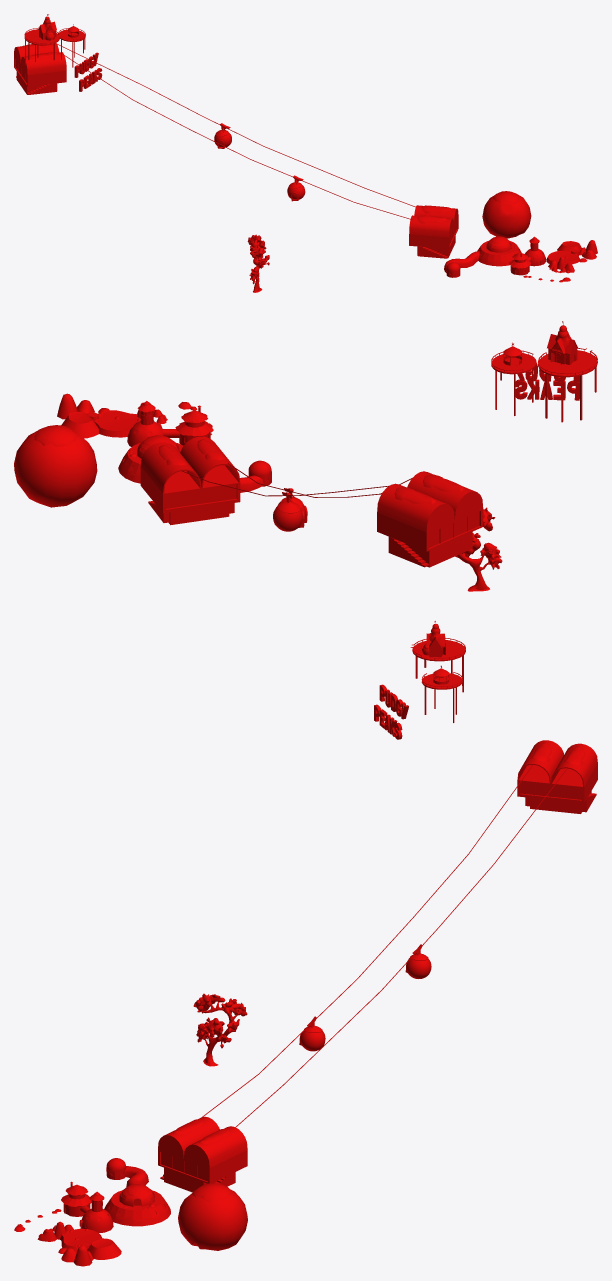
The model's file is Neighborhood_PudgyPeaks_Locked_03.glb.
3 views of the same model, one above another, from view 1: azimuth 30°, elevation 25°; view 2: azimuth 150°, elevation 25°; view 3: azimuth 270°, elevation 25° (orthographic). The views are drawn at different scales.
Parts seen in each view (by area): view 1: Neighborhood_PudgyPeaks_Locked_03; view 2: Neighborhood_PudgyPeaks_Locked_03; view 3: Neighborhood_PudgyPeaks_Locked_03.
Part boxes in pixels (x1,y1,x2,y2): Neighborhood_PudgyPeaks_Locked_03: [14, 14, 597, 292]; Neighborhood_PudgyPeaks_Locked_03: [14, 321, 597, 591]; Neighborhood_PudgyPeaks_Locked_03: [14, 621, 597, 1266].
Size of the model in its own units: 93.24 by 51.42 by 75.07.
